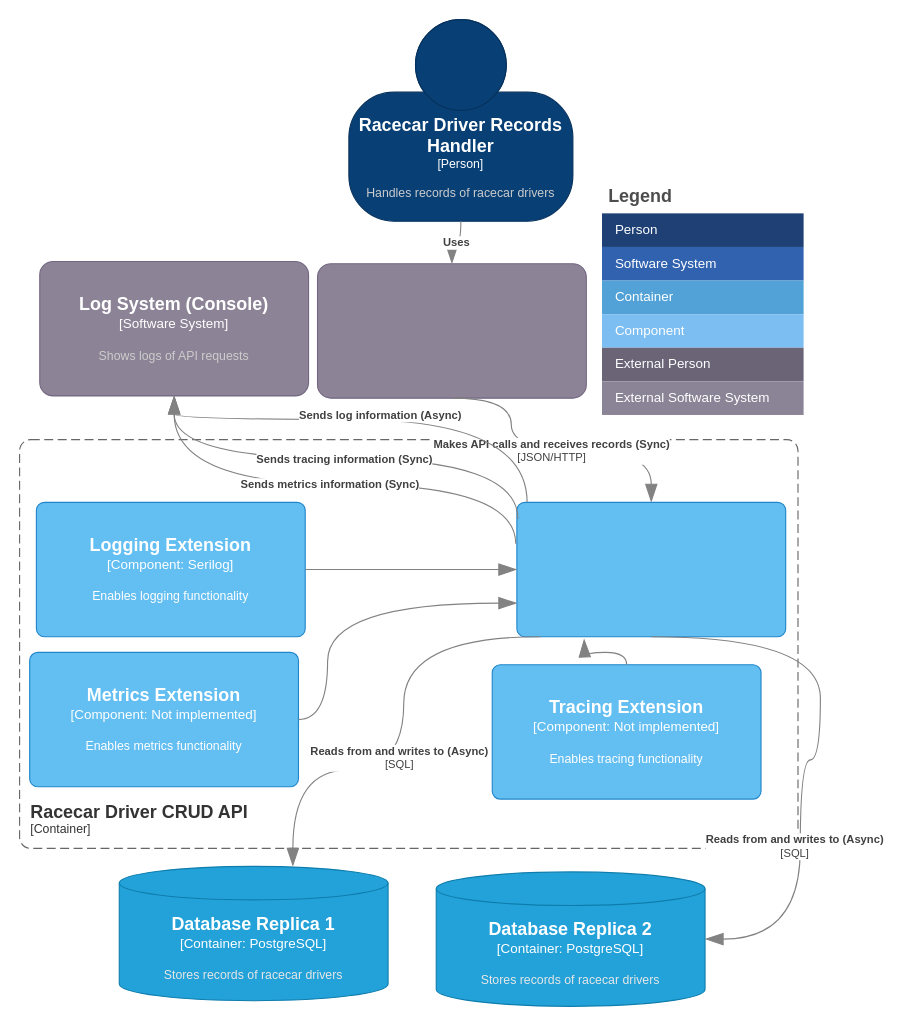
Image size: 903x1026. Some labels were removed from this diagram. The centre of each missing label's shape, as x and y in pixels:
Postman [Software System] API platform: (x=451, y=330)
Racecar Driver Controller [Component: HTTP] CRUD records: (x=651, y=569)
